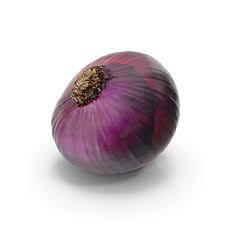non-mango: (50, 50, 180, 175)
